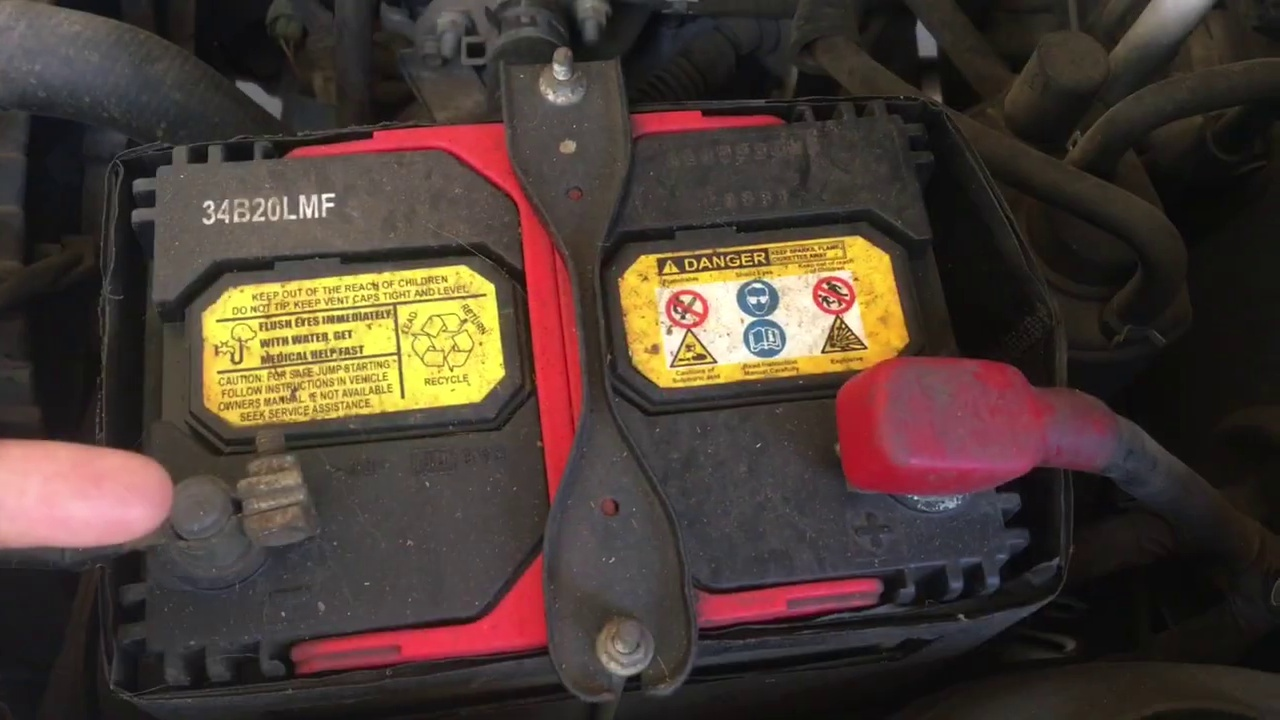battery: (105, 129, 1049, 661)
neg_connected: (165, 418, 339, 589)
neg_touched: (1, 378, 313, 600)
pos_connected: (795, 336, 1103, 524)
